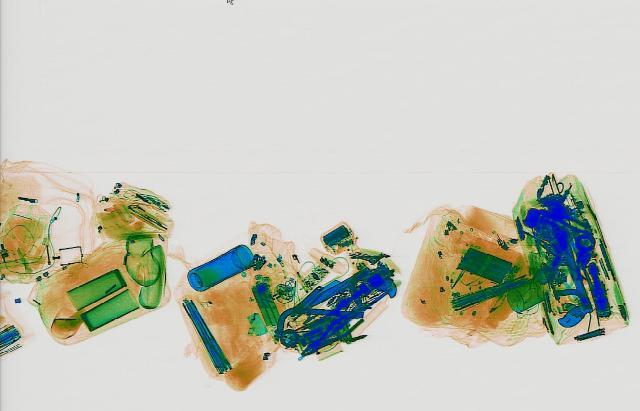Pliers: (290, 311, 366, 360), (532, 204, 600, 235)
